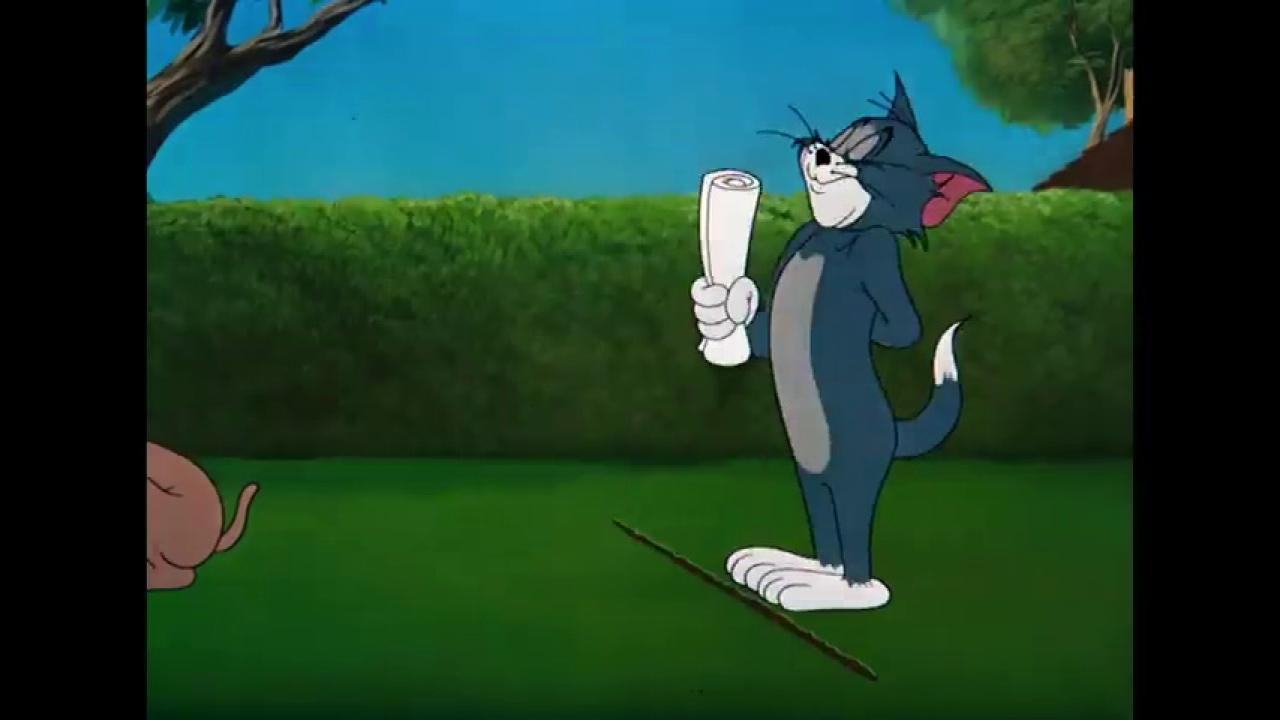Tom: (689, 66, 994, 615)
